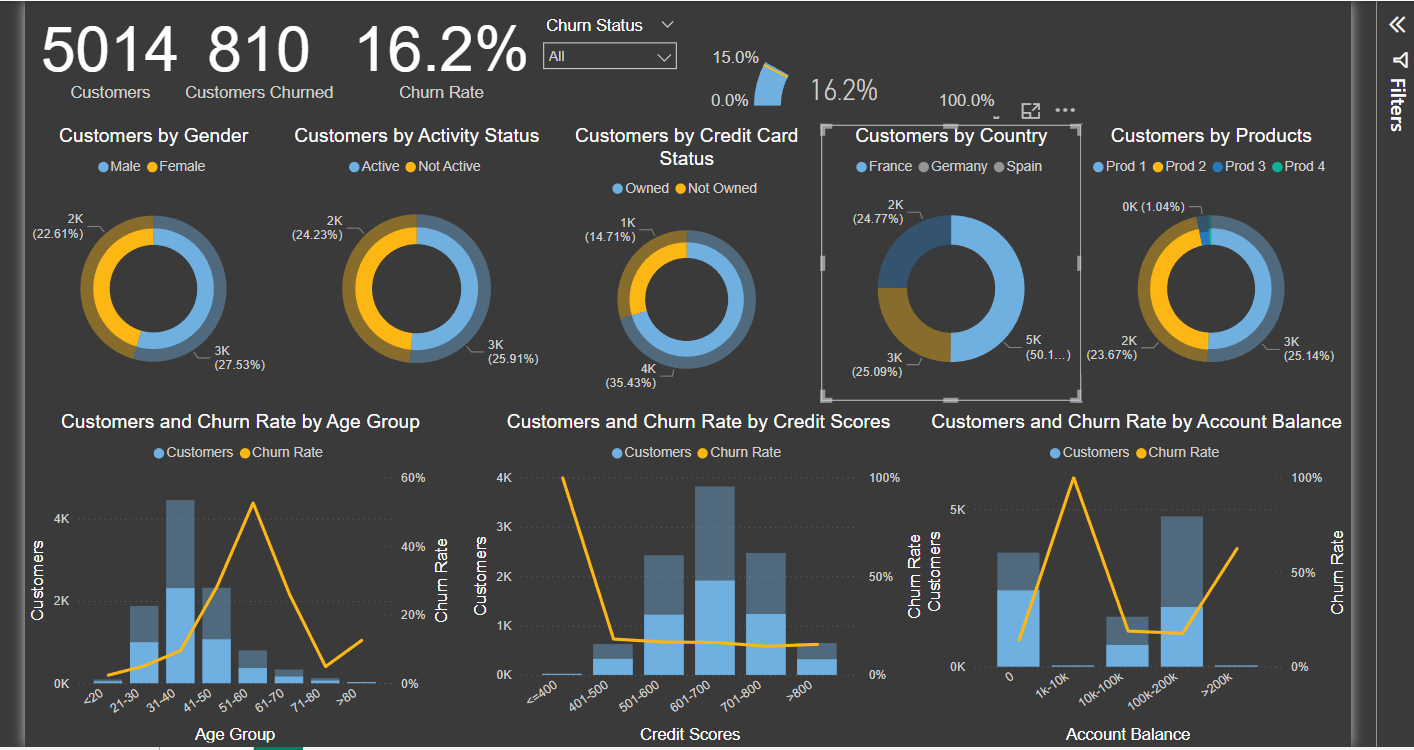

The page's visual inventory and layout, read from the dashboard file:
{"tool":"powerbi","page":{"name":"Page 1","canvas":[1280,720],"ordinal":0},"visuals":[{"type":"card","fields":{"Values":["Customer Data.Customers"]},"box":[9.8,0,145.5,101.5],"z":0},{"type":"card","fields":{"Values":["Customer Data.Customers Churned"]},"box":[146.8,0,157.8,101.5],"z":1},{"type":"card","fields":{"Values":["Customer Data.Churn Rate"]},"box":[304.6,0,193.5,101.5],"z":2},{"type":"donutChart","fields":{"Category":["Customer Data.Gender"],"Y":["Customer Data.Customers"]},"box":[0,119.4,248.4,266.2],"z":3},{"type":"donutChart","fields":{"Y":["Customer Data.Customers"],"Category":["Customer Data.Activity Status"]},"box":[248.4,119.4,259.3,266.2],"z":4},{"type":"donutChart","fields":{"Y":["Customer Data.Customers"],"Category":["Customer Data.Credit Card Status"]},"box":[509.1,119.4,259.3,266.2],"z":5},{"type":"donutChart","fields":{"Y":["Customer Data.Customers"],"Category":["Customer Data.Country"]},"box":[768.4,119.4,251.1,266.2],"z":6},{"type":"donutChart","fields":{"Y":["Customer Data.Customers"],"Category":["Customer Data.Products"]},"box":[1019.6,119.4,251.1,266.2],"z":7},{"type":"lineClusteredColumnComboChart","fields":{"Category":["Age Group ID.Age Group"],"Y":["Customer Data.Customers"],"Y2":["Customer Data.Churn Rate"]},"box":[0,395.2,415.8,325.2],"z":8},{"type":"lineClusteredColumnComboChart","fields":{"Y":["Customer Data.Customers"],"Y2":["Customer Data.Churn Rate"],"Category":["Credit Scores ID.Credit Scores"]},"box":[426.8,395.2,446,325.2],"z":9},{"type":"lineClusteredColumnComboChart","fields":{"Y":["Customer Data.Customers"],"Y2":["Customer Data.Churn Rate"],"Category":["Acct Balance ID.Account Balance"]},"box":[864.5,395.2,415.8,325.2],"z":10},{"type":"slicer","fields":{"Values":["Customer Data.Churn Status"]},"box":[489.9,9.6,149.6,91.9],"z":11},{"type":"gauge","fields":{"Y":["Customer Data.Churn Rate"],"MinValue":["Min(Customer Data.Minimum Churn Rate)"],"MaxValue":["Max(Customer Data.Maximum Churn Rate)"],"TargetValue":["Min(Customer Data.Target Churn Rate)"]},"box":[650.4,9.6,297.8,101.5],"z":12}]}

Visuals, with their boxes in screenshot pixels (x1, y1, x2, y2):
card - Customer Data.Customers: l=198, t=29, r=342, b=130
card - Customer Data.Customers Churned: l=333, t=29, r=490, b=130
card - Customer Data.Churn Rate: l=490, t=29, r=682, b=130
donutChart - Customer Data.Gender x Customer Data.Customers: l=188, t=148, r=434, b=412
donutChart - Customer Data.Customers x Customer Data.Activity Status: l=434, t=148, r=692, b=412
donutChart - Customer Data.Customers x Customer Data.Credit Card Status: l=693, t=148, r=950, b=412
donutChart - Customer Data.Customers x Customer Data.Country: l=950, t=148, r=1200, b=412
donutChart - Customer Data.Customers x Customer Data.Products: l=1200, t=148, r=1413, b=412
lineClusteredColumnComboChart - Age Group ID.Age Group x Customer Data.Customers: l=188, t=422, r=600, b=744
lineClusteredColumnComboChart - Customer Data.Customers x Customer Data.Churn Rate: l=611, t=422, r=1054, b=744
lineClusteredColumnComboChart - Customer Data.Customers x Customer Data.Churn Rate: l=1046, t=422, r=1413, b=744
slicer - Customer Data.Churn Status: l=674, t=39, r=822, b=130
gauge - Customer Data.Churn Rate x Min(Customer Data.Minimum Churn Rate): l=833, t=39, r=1129, b=140
